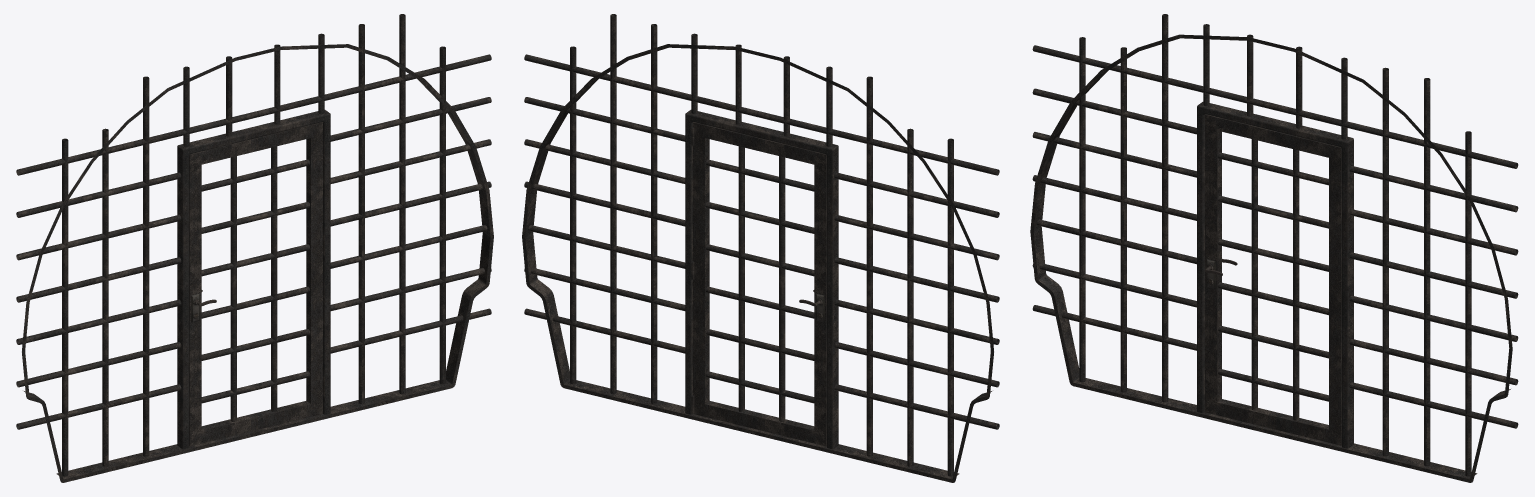
File: bars_metal_4.glb
3 renders of one model, left to right at view 1: azimuth 30°, elevation 25°; view 2: azimuth 150°, elevation 25°; view 3: azimuth 330°, elevation 25°, orthographic. The views are drawn at different scales.
Visible parts, largest first — view 1: bars_metal_4, door_6; view 2: bars_metal_4, door_6; view 3: bars_metal_4, door_6.
Part boxes in pixels (bbox=[...]): bars_metal_4: bbox=[16, 14, 493, 482]; door_6: bbox=[189, 122, 322, 446]; bars_metal_4: bbox=[522, 14, 999, 482]; door_6: bbox=[691, 122, 826, 446]; bars_metal_4: bbox=[1030, 14, 1518, 482]; door_6: bbox=[1205, 114, 1341, 445].
Bounding box in the file's own units: 3.5 × 2.72 × 0.194.
3 materials, 3 textured.
